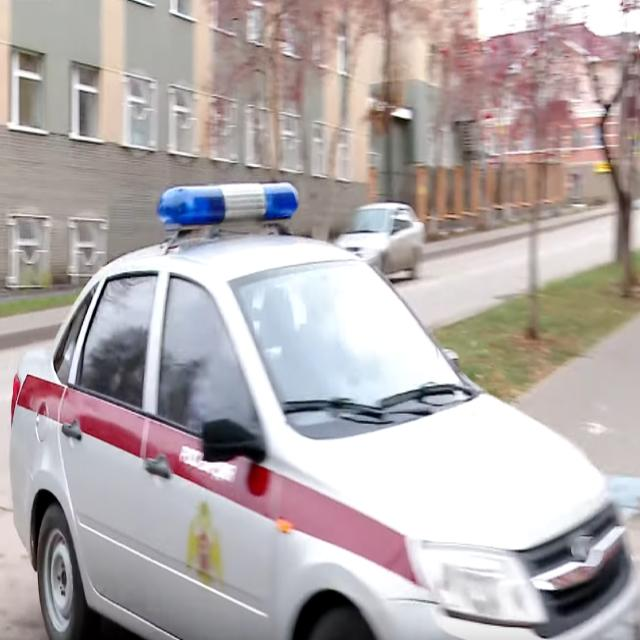non emergency car: (328, 200, 428, 285)
police car: (12, 181, 640, 640)
